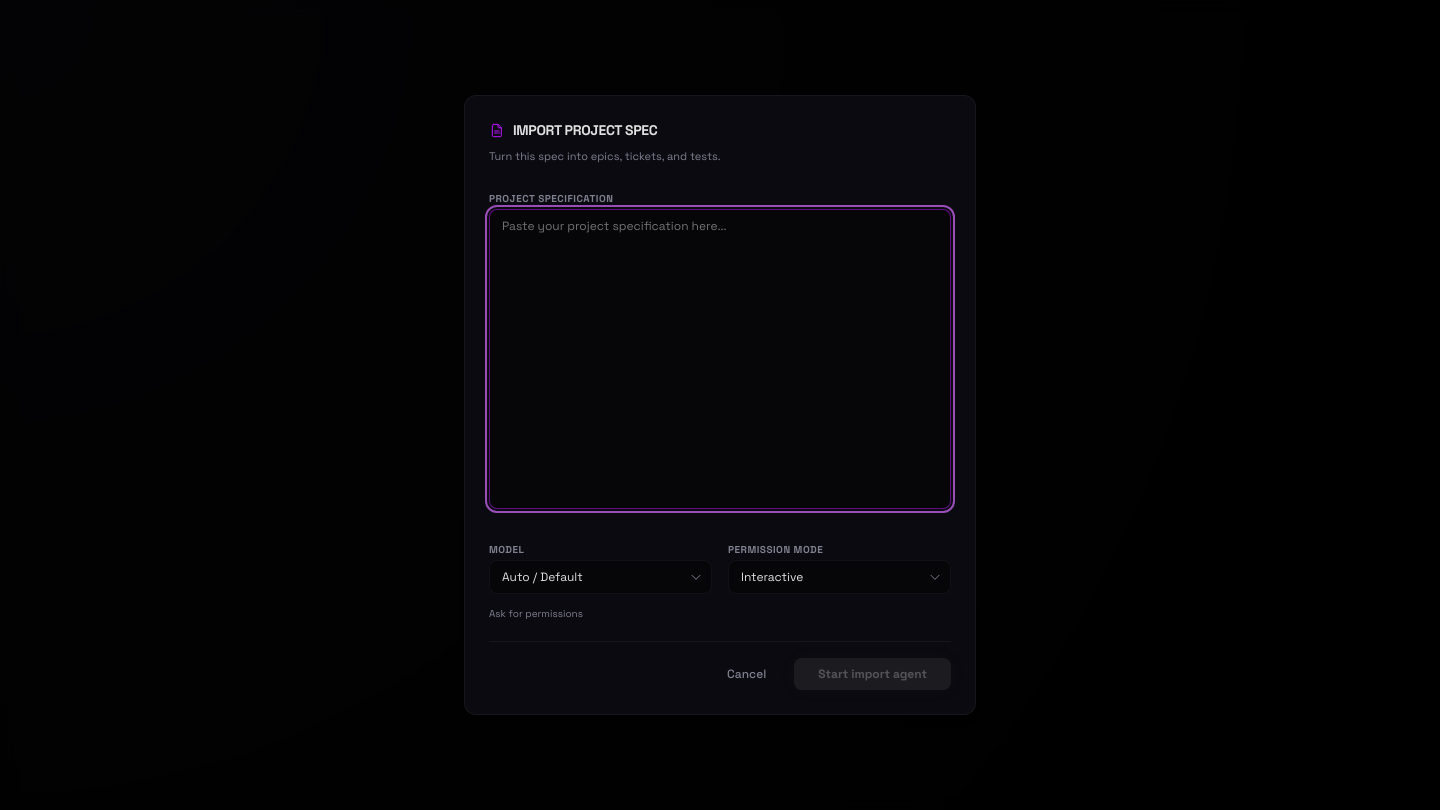
it: ImportSpecDialog › import button is enabled when textarea has content
Type "My spec" into the text box with placeholder "Paste your project specification here..." at (720, 359), box [489,209,951,509]
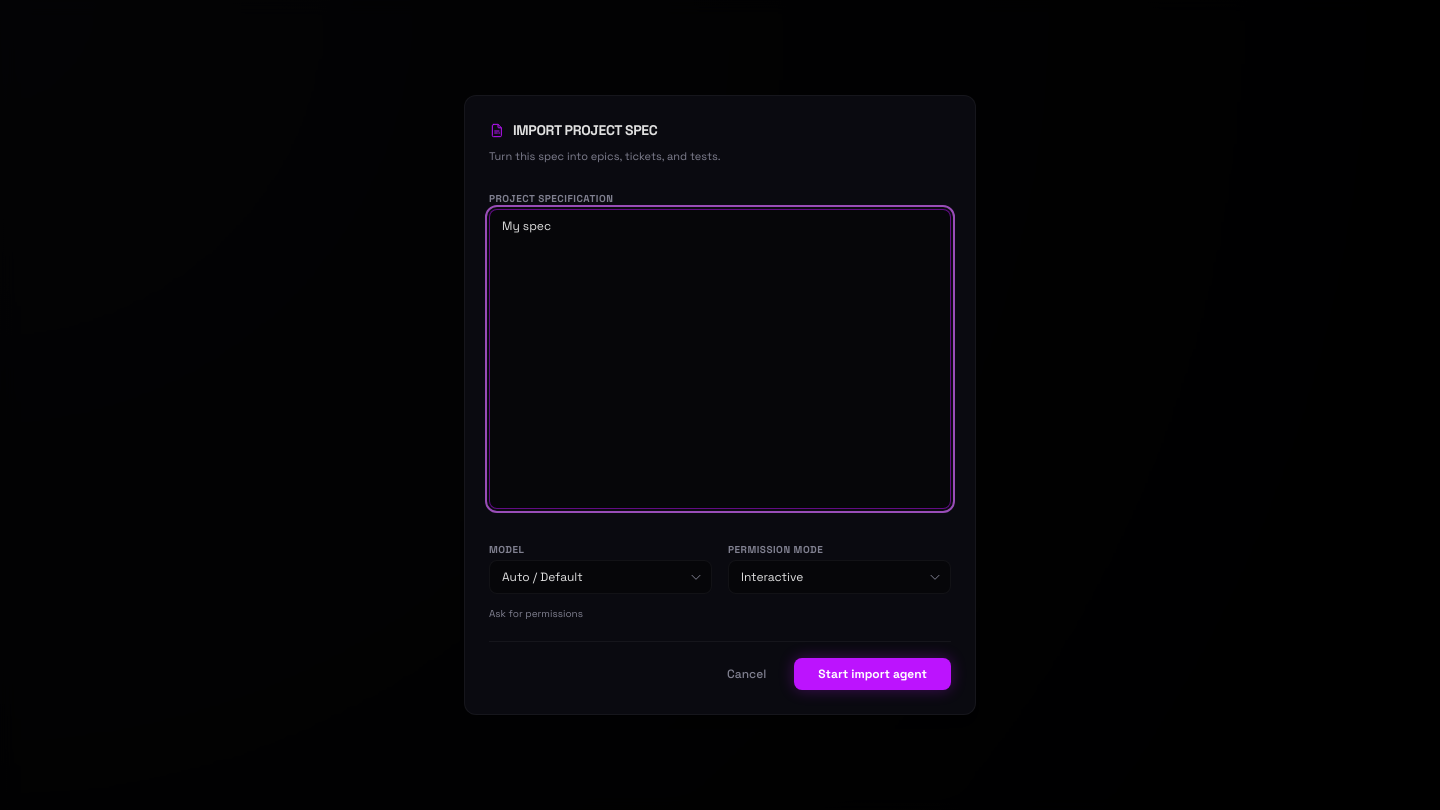
Check: the button "Start import agent" is enabled, box [794,658,951,690]
